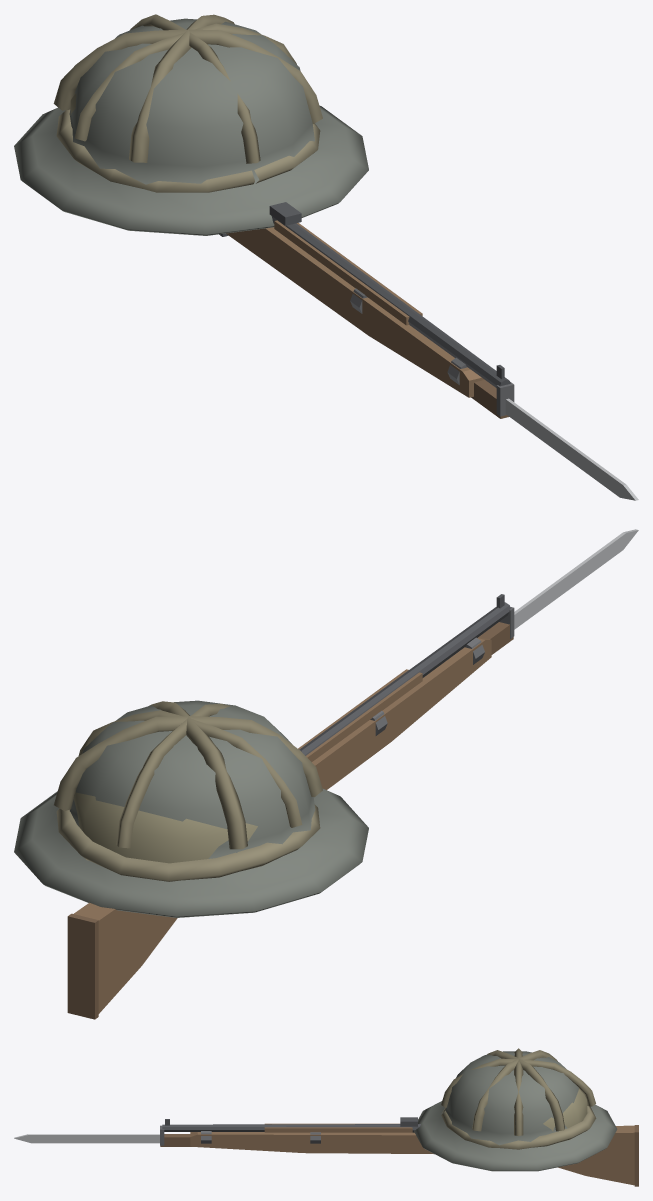
The model's file is props.glb.
3 renders of one model, top to bottom at view 1: azimuth 30°, elevation 25°; view 2: azimuth 150°, elevation 25°; view 3: azimuth 270°, elevation 25°, orthographic. The views are drawn at different scales.
Parts seen in each view (by area): view 1: helmet, mauser, kabalak; view 2: helmet, kabalak, mauser; view 3: helmet, mauser, kabalak.
Part boxes in pixels (bbox=[...]): helmet: bbox=[14, 18, 368, 235]; mauser: bbox=[219, 202, 638, 500]; kabalak: bbox=[53, 14, 322, 192]; helmet: bbox=[14, 700, 368, 917]; kabalak: bbox=[54, 701, 322, 881]; mauser: bbox=[67, 529, 638, 1019]; helmet: bbox=[414, 1051, 617, 1171]; mauser: bbox=[14, 1117, 638, 1186]; kabalak: bbox=[441, 1048, 596, 1149].
Bounding box in the file's own units: 0.5541 × 0.3914 × 1.77.
